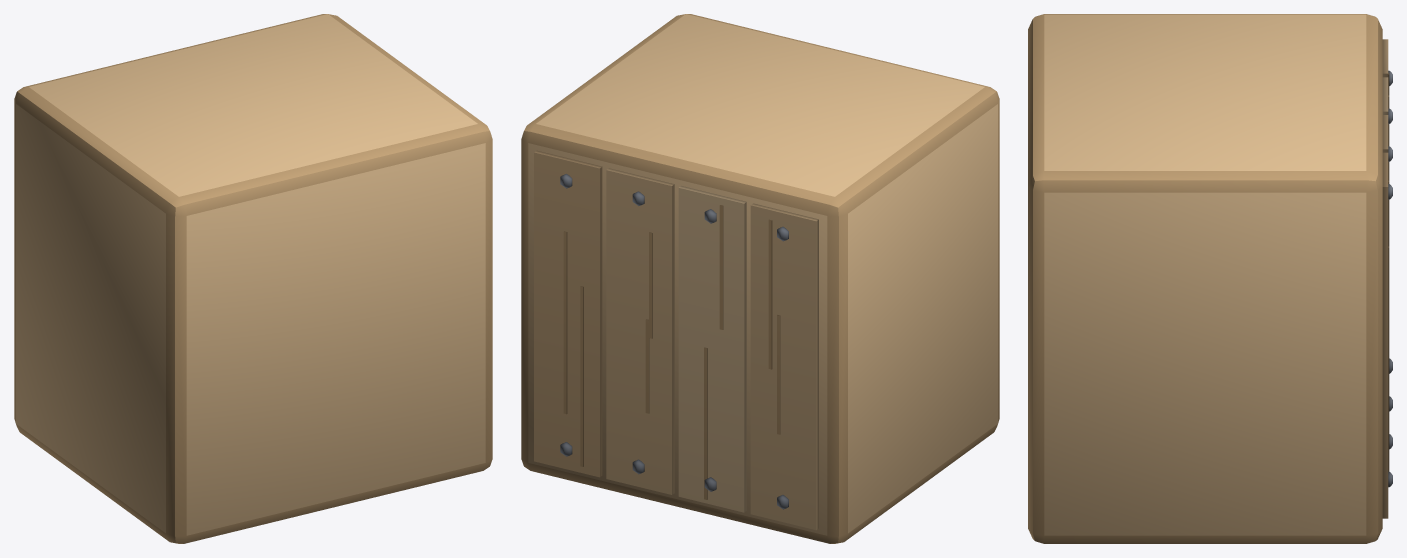
File: CubeMediumWood.fbx
3 renders of one model, left to right at view 1: azimuth 30°, elevation 25°; view 2: azimuth 150°, elevation 25°; view 3: azimuth 270°, elevation 25°, orthographic. The views are drawn at different scales.
Parts seen in each view (by area): view 1: CubeMediumWood; view 2: CubeMediumWood; view 3: CubeMediumWood.
Boxes of the visible parts, x1,y1,x2,y2 form: CubeMediumWood: (14, 14, 492, 543); CubeMediumWood: (521, 14, 999, 543); CubeMediumWood: (1028, 14, 1392, 543).
Size of the model in its own units: 2.5 by 2.55 by 2.26.
